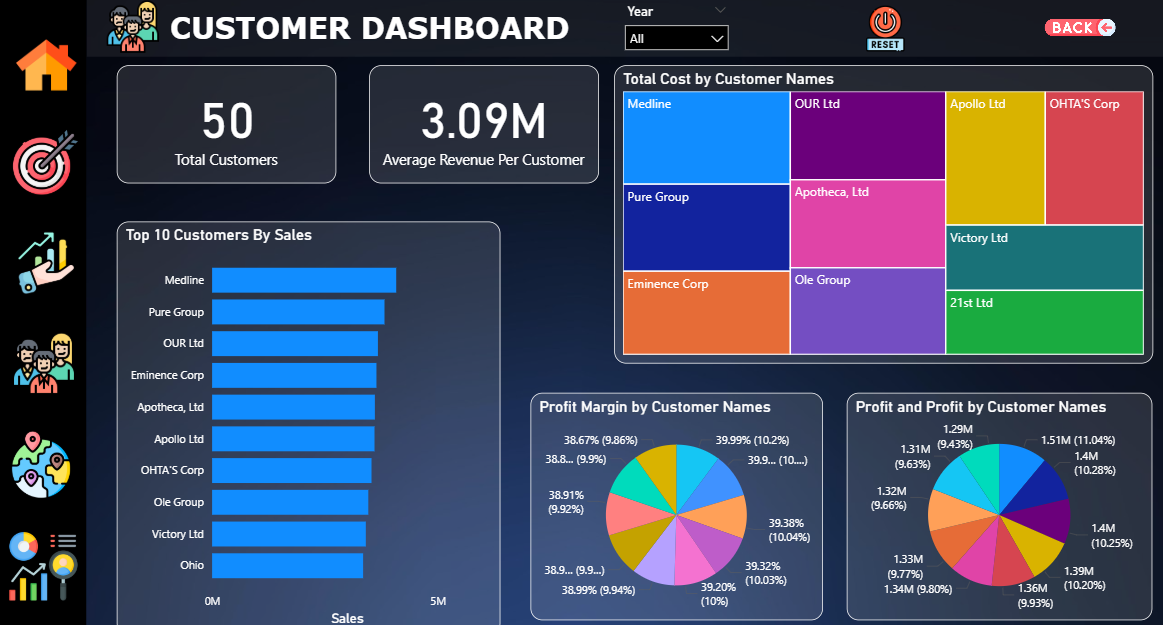

The page's visual inventory and layout, read from the dashboard file:
{"tool":"powerbi","page":{"name":"Customer Dashboard ","canvas":[1280,720],"ordinal":3},"visuals":[{"type":"shape","box":[97.2,0,1182.8,69],"z":0},{"type":"textbox","box":[183.7,12.6,475.3,54.4],"z":1000},{"type":"slicer","fields":{"Values":["DAX DateTable.Year"]},"box":[677.4,4.9,134.1,70],"z":2000},{"type":"shape","box":[0,0,97.2,720.2],"z":3000},{"type":"card","fields":{"Values":["Measured table.Total Customers"]},"box":[130.2,77.8,241,129.3],"z":4000},{"type":"card","fields":{"Values":["Measured table.Average Revenue Per Customer"]},"box":[407.2,77.8,251.7,129.3],"z":5000},{"type":"barChart","title":"Top 10 Customers By Sales","fields":{"Y":["Measured table.Sales"],"Category":["Customer_Data.Customer Names"]},"box":[130.2,249.8,420.8,453.9],"z":6000},{"type":"pieChart","fields":{"Category":["Customer_Data.Customer Names"],"Y":["Measured table.Profit Margin"]},"box":[584.1,437.4,320.7,249.8],"z":7000},{"type":"treemap","fields":{"Group":["Customer_Data.Customer Names"],"Values":["Measured table.Total Cost"]},"box":[675.5,77.8,590.9,327.5],"z":8000},{"type":"pieChart","fields":{"Category":["Customer_Data.Customer Names"],"Y":["Measured table.Profit"]},"box":[931.1,437.4,335.3,249.8],"z":9000},{"type":"image","box":[3.9,473.1,86.5,86.5],"z":10000},{"type":"image","box":[9.7,362.1,81.6,86.5],"z":11000},{"type":"image","box":[9.7,140.1,86.5,87.5],"z":12000},{"type":"image","box":[12.6,252.1,80.7,85.5],"z":13000},{"type":"image","box":[4.9,584.1,88.4,87.5],"z":14000},{"type":"image","box":[10.7,39.8,83.6,75.8],"z":16001},{"type":"image","box":[1143,0,87.5,73.9],"z":16003},{"type":"image","box":[943.7,4.9,60.3,64.1],"z":16004},{"type":"image","box":[110.8,1.9,72.9,69],"z":16005}]}

Visuals, with their boxes on the page's 1280x720 design canvas (x1, y1, x2, y2). These are canvas units, not pixel positions in the 1163x625 screenshot, which may show the page scaled, cropped or inside an application window:
shape: pyautogui.locateOnScreen(97, 0, 1280, 69)
textbox: pyautogui.locateOnScreen(184, 13, 659, 67)
slicer - DAX DateTable.Year: pyautogui.locateOnScreen(677, 5, 812, 75)
shape: pyautogui.locateOnScreen(0, 0, 97, 720)
card - Measured table.Total Customers: pyautogui.locateOnScreen(130, 78, 371, 207)
card - Measured table.Average Revenue Per Customer: pyautogui.locateOnScreen(407, 78, 659, 207)
"Top 10 Customers By Sales" barChart: pyautogui.locateOnScreen(130, 250, 551, 704)
pieChart - Customer_Data.Customer Names x Measured table.Profit Margin: pyautogui.locateOnScreen(584, 437, 905, 687)
treemap - Customer_Data.Customer Names x Measured table.Total Cost: pyautogui.locateOnScreen(676, 78, 1266, 405)
pieChart - Customer_Data.Customer Names x Measured table.Profit: pyautogui.locateOnScreen(931, 437, 1266, 687)
image: pyautogui.locateOnScreen(4, 473, 90, 560)
image: pyautogui.locateOnScreen(10, 362, 91, 449)
image: pyautogui.locateOnScreen(10, 140, 96, 228)
image: pyautogui.locateOnScreen(13, 252, 93, 338)
image: pyautogui.locateOnScreen(5, 584, 93, 672)
image: pyautogui.locateOnScreen(11, 40, 94, 116)
image: pyautogui.locateOnScreen(1143, 0, 1230, 74)
image: pyautogui.locateOnScreen(944, 5, 1004, 69)
image: pyautogui.locateOnScreen(111, 2, 184, 71)
